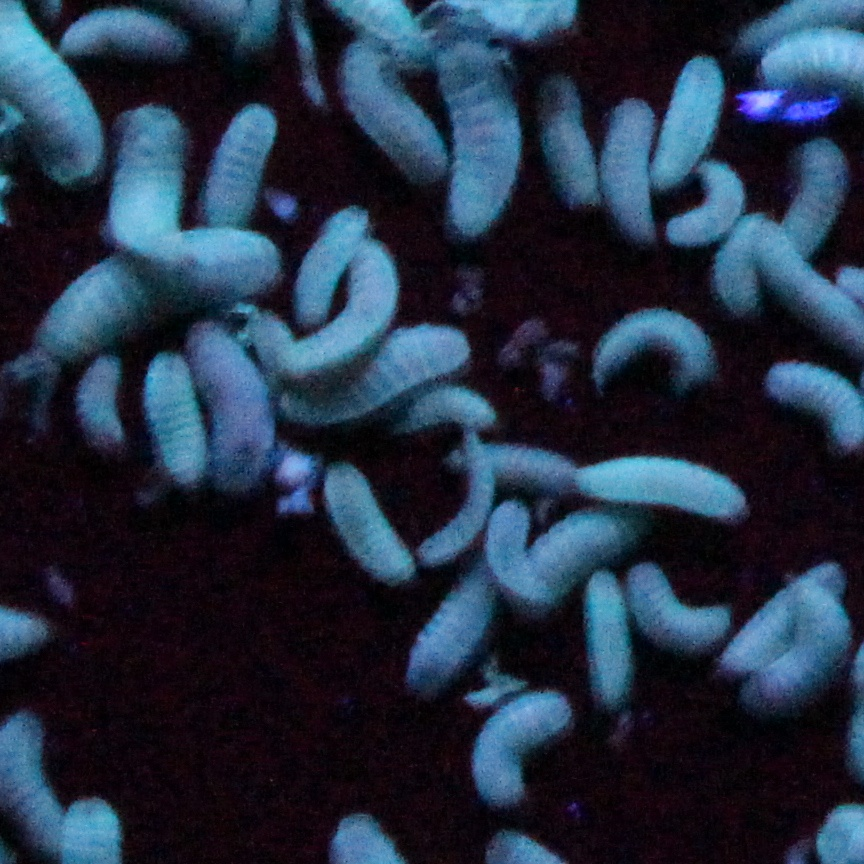larve: (30, 223, 283, 368), (430, 8, 534, 234), (274, 316, 474, 423), (336, 32, 445, 188), (581, 301, 741, 401), (101, 103, 196, 265), (288, 234, 399, 372), (185, 327, 277, 483), (721, 561, 843, 672), (461, 683, 572, 805), (572, 450, 754, 519), (523, 498, 639, 603), (754, 576, 846, 708), (321, 465, 416, 590), (403, 567, 499, 688), (595, 96, 666, 247), (648, 52, 723, 185), (139, 352, 214, 485), (574, 568, 645, 705), (621, 565, 726, 656), (55, 1, 199, 67), (206, 98, 281, 223), (416, 438, 488, 565), (770, 138, 846, 254), (534, 74, 599, 205), (477, 503, 559, 601), (441, 439, 592, 490), (301, 208, 361, 321), (74, 347, 137, 454), (677, 161, 743, 243), (388, 388, 506, 430)
